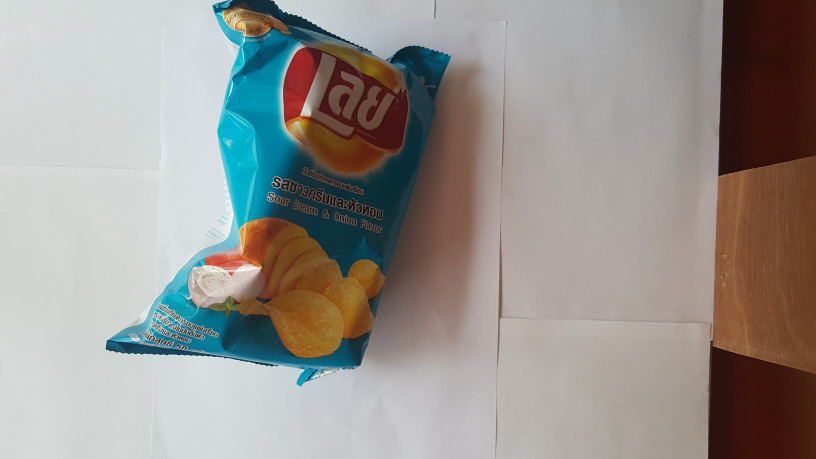lays-onion: (94, 1, 467, 419)
